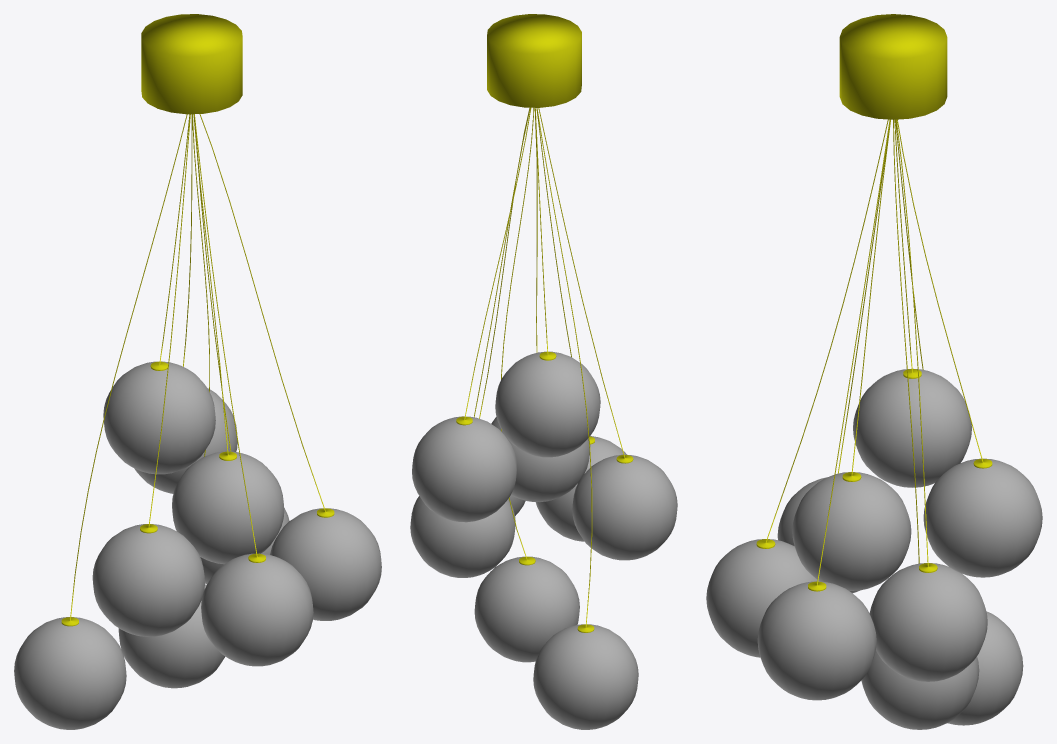
File: zyrandol_uv.fbx
3 renders of one model, left to right at view 1: azimuth 30°, elevation 25°; view 2: azimuth 150°, elevation 25°; view 3: azimuth 270°, elevation 25°, orthographic. The views are drawn at different scales.
Visible parts, largest first — view 1: polySurface280; view 2: polySurface280; view 3: polySurface280.
Part boxes in pixels (x1=…): polySurface280: x1=14, y1=14, x2=381, y2=729; polySurface280: x1=410, y1=14, x2=677, y2=729; polySurface280: x1=706, y1=14, x2=1042, y2=729.
Size of the model in its own units: 4 by 9.33 by 3.9.
